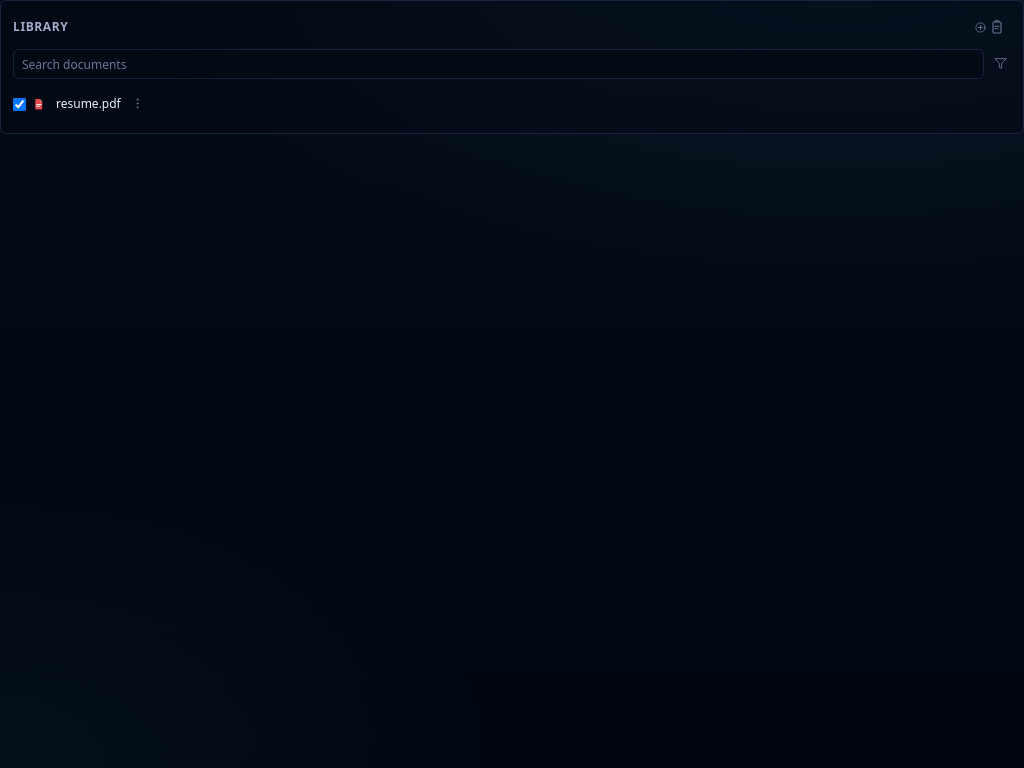
Test: LibraryRowMenu › shows Link to the open conversation, toggling on click
Expected: the text "resume.pdf" is shown, [56,95,121,113]
Click the button named "more actions for resume.pdf": (137, 104) [127,93,148,114]
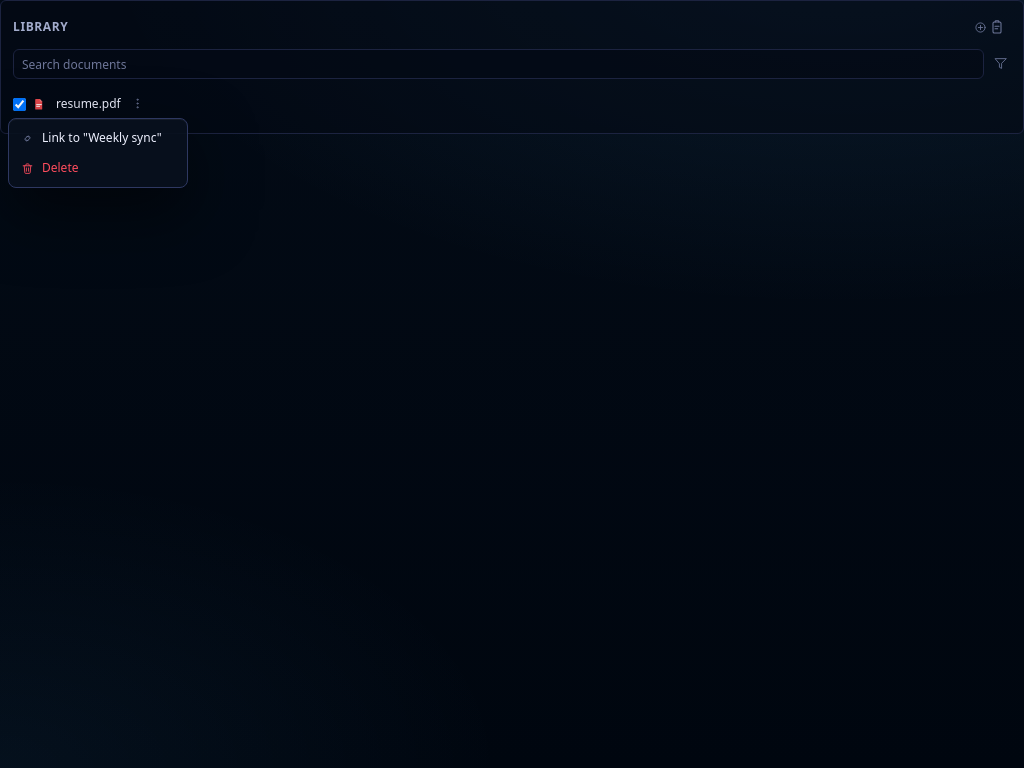
Result: the menu item "Link to \"Weekly sync\"" is shown at [13,123,183,153]
